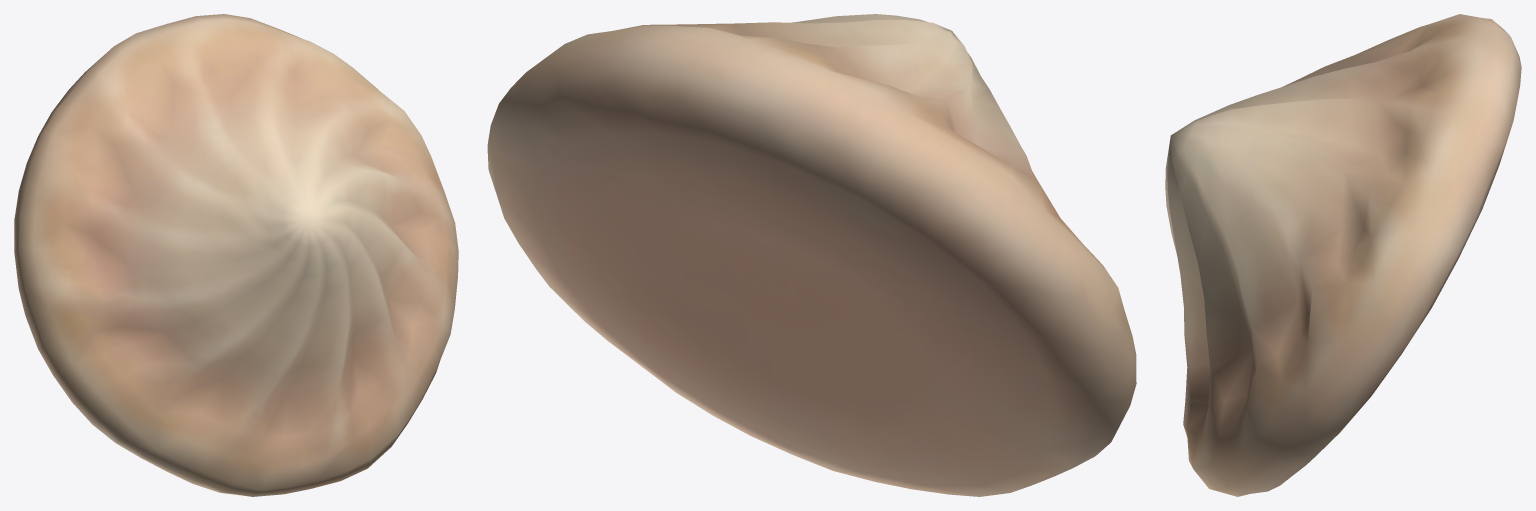
File: BFSoupDumpling.glb
The picture shows the model from 3 angles, left to right: view 1: azimuth 30°, elevation 25°; view 2: azimuth 150°, elevation 25°; view 3: azimuth 270°, elevation 25°; orthographic projection. The views are drawn at different scales.
Parts seen in each view (by area): view 1: guantangbao; view 2: guantangbao; view 3: guantangbao.
Part boxes in pixels (box(x1,y1,x2,y2)): guantangbao: box(14, 14, 458, 496); guantangbao: box(487, 14, 1136, 496); guantangbao: box(1165, 14, 1521, 496).
Size of the model in its own units: 1.13 by 0.9901 by 0.7495.
1 material, 1 textured.
